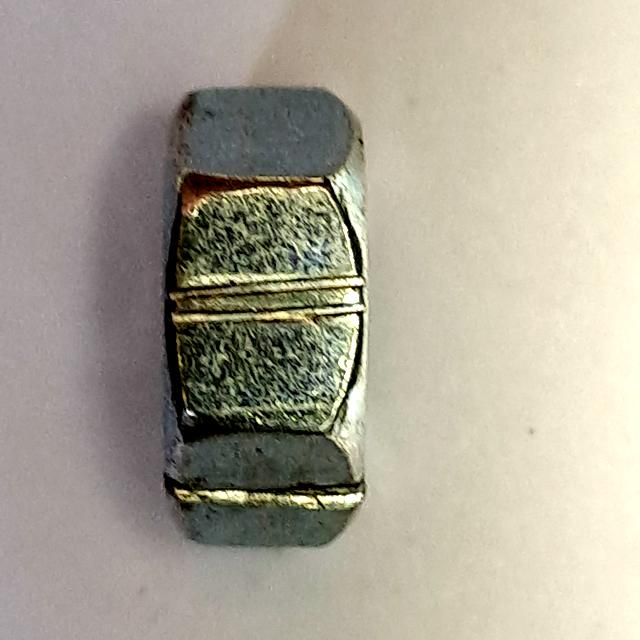Side_Scratches: (136, 68, 396, 562)
